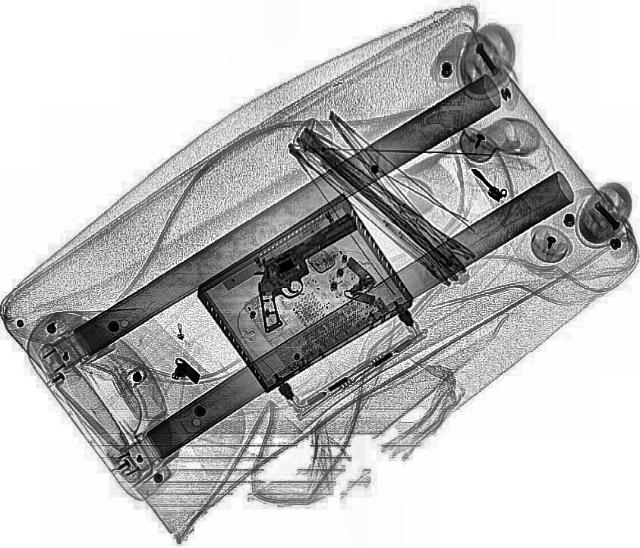Gun: (222, 214, 392, 330)
